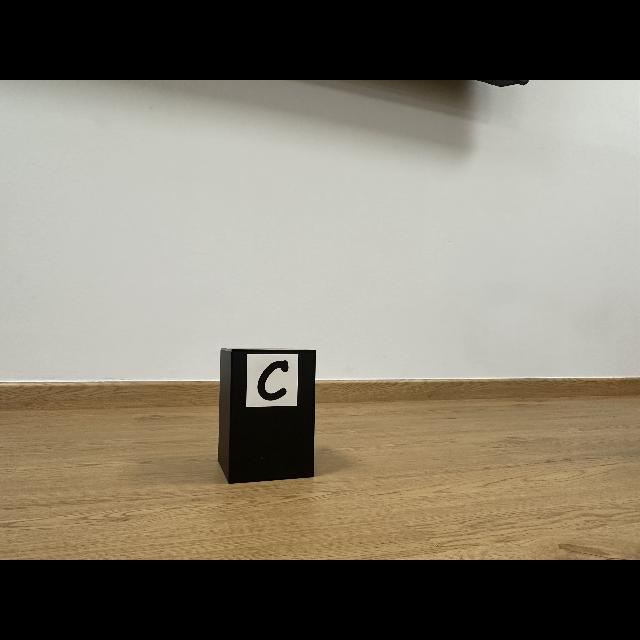C: (258, 361, 289, 401)
